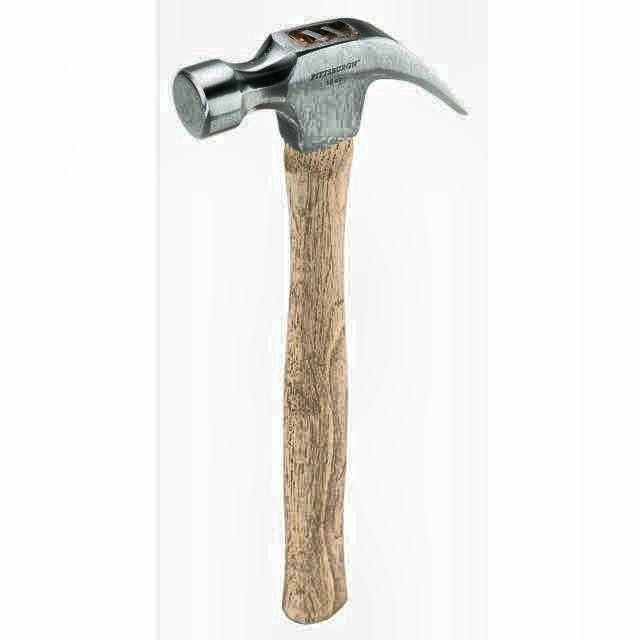hammer: (173, 16, 473, 625)
